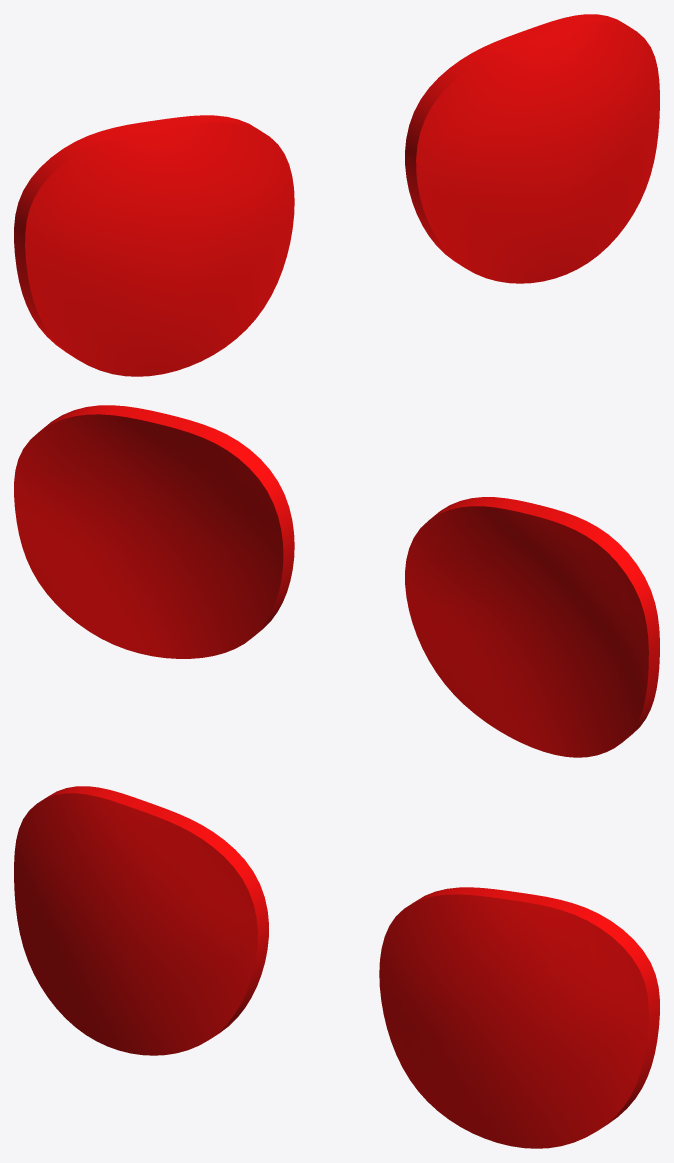
File: eynak.glb
3 renders of one model, top to bottom at view 1: azimuth 30°, elevation 25°; view 2: azimuth 150°, elevation 25°; view 3: azimuth 330°, elevation 25°, orthographic.
Visible parts, largest first — view 1: Layer 04; view 2: Layer 04; view 3: Layer 04.
Part boxes in pixels (x1,y1,x2,y2): Layer 04: [14, 14, 659, 376]; Layer 04: [14, 405, 659, 757]; Layer 04: [14, 786, 659, 1148].
Bounding box in the file's own units: 0.0077 × 0.0028 × 0.000712.
